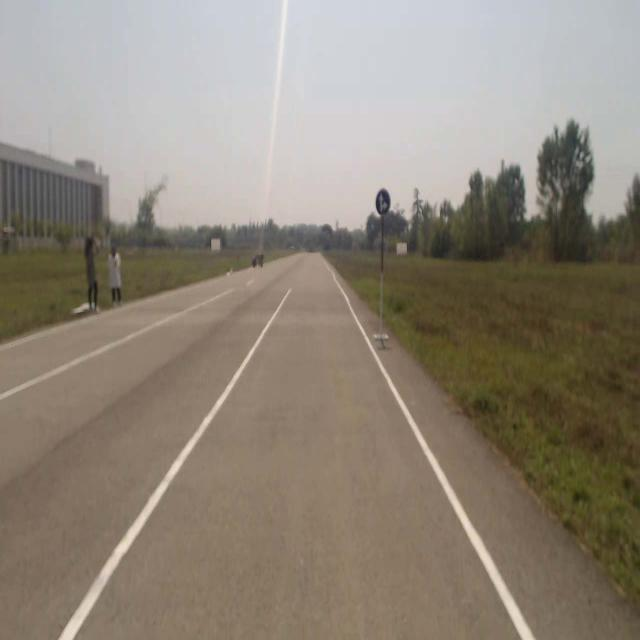ilerisag: (376, 189, 390, 215)
